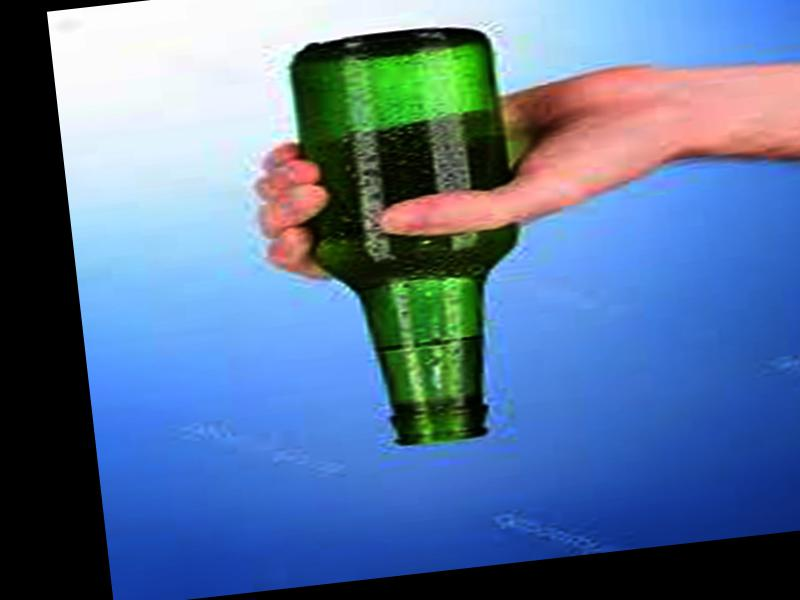Beer: (292, 20, 534, 454)
